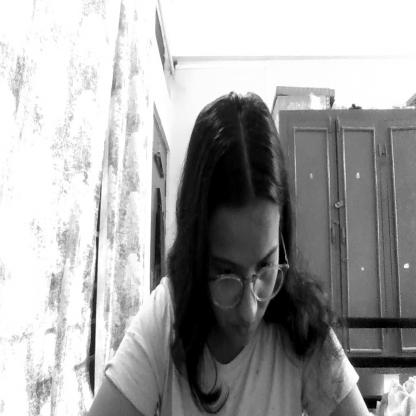Normal: (189, 89, 297, 348)
